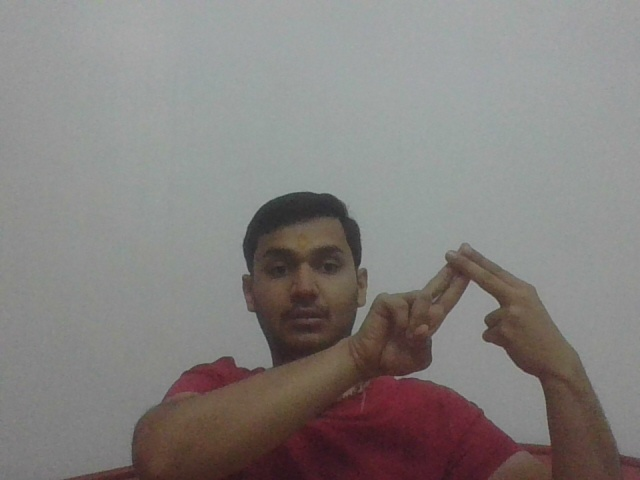F: (367, 241, 566, 376)
